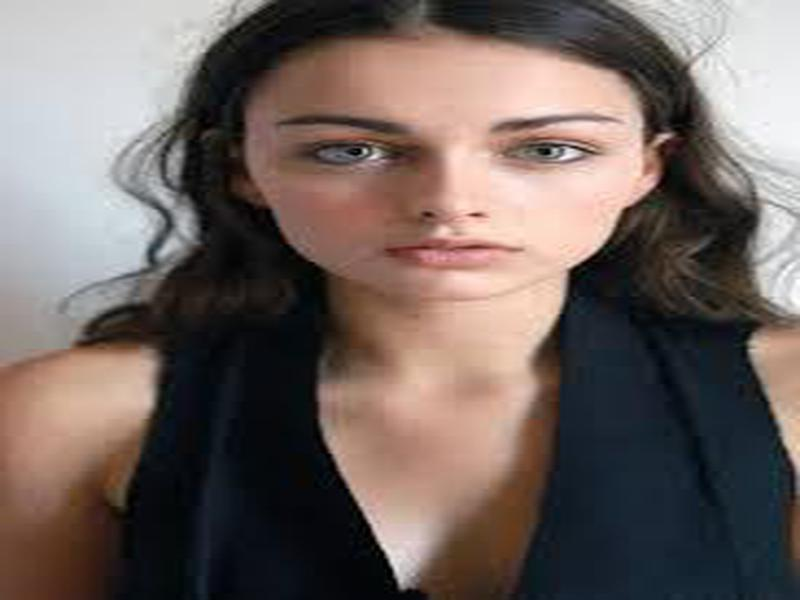without_mask: (246, 63, 638, 302)
